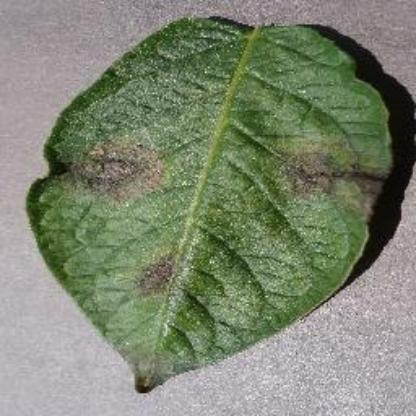Late-Blight: (26, 9, 398, 393)
